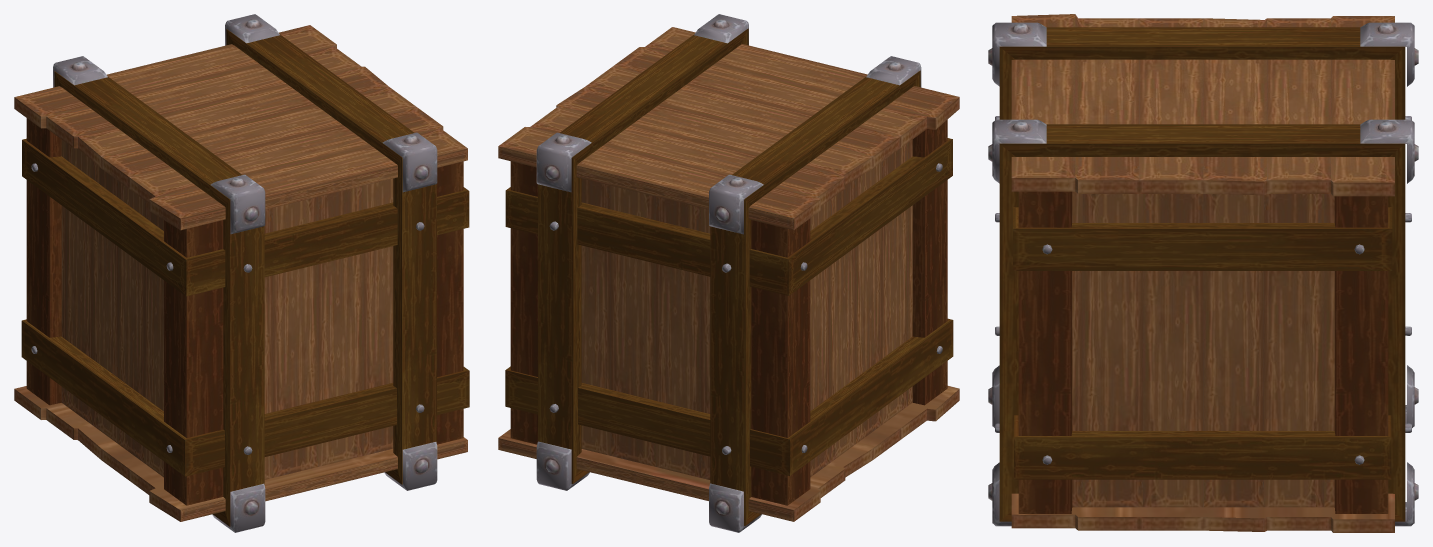
The model's file is Crate_Wooden.gltf.
The picture shows the model from 3 angles, left to right: view 1: azimuth 30°, elevation 25°; view 2: azimuth 150°, elevation 25°; view 3: azimuth 270°, elevation 25°; orthographic projection. The views are drawn at different scales.
Visible parts, largest first — view 1: Crate_Wooden; view 2: Crate_Wooden; view 3: Crate_Wooden.
Boxes of the visible parts, x1,y1,x2,y2 form: Crate_Wooden: (14, 14, 469, 532); Crate_Wooden: (498, 14, 959, 532); Crate_Wooden: (988, 14, 1418, 532).
Bounding box in the file's own units: 0.8423 × 0.9309 × 0.9083.
2 materials, 2 textured.
